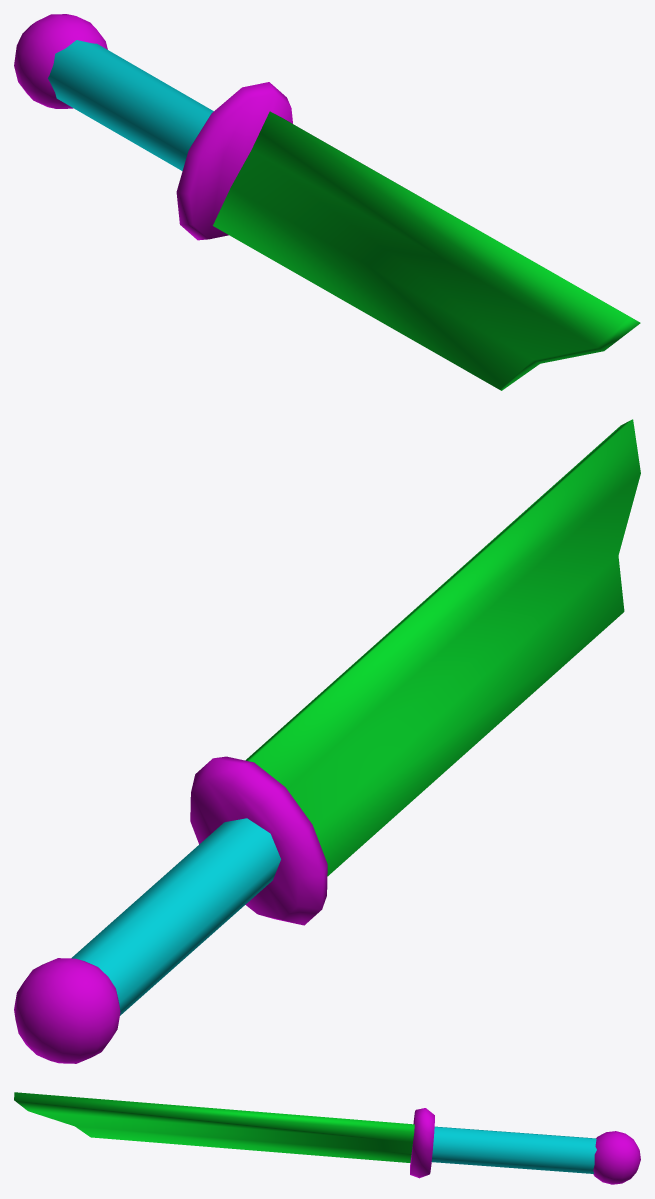
Rendered from JoinedSword.fbx.
The picture shows the model from 3 angles, top to bottom: view 1: azimuth 30°, elevation 25°; view 2: azimuth 150°, elevation 25°; view 3: azimuth 270°, elevation 25°; orthographic projection. The views are drawn at different scales.
Parts seen in each view (by area): view 1: SwordBroken.001; view 2: SwordBroken.001; view 3: SwordBroken.001.
Boxes of the visible parts, bbox=[...] form: SwordBroken.001: bbox=[14, 14, 640, 390]; SwordBroken.001: bbox=[14, 419, 640, 1063]; SwordBroken.001: bbox=[14, 1092, 640, 1184].
Bounding box in the file's own units: 8.86 × 12.96 × 75.26.
